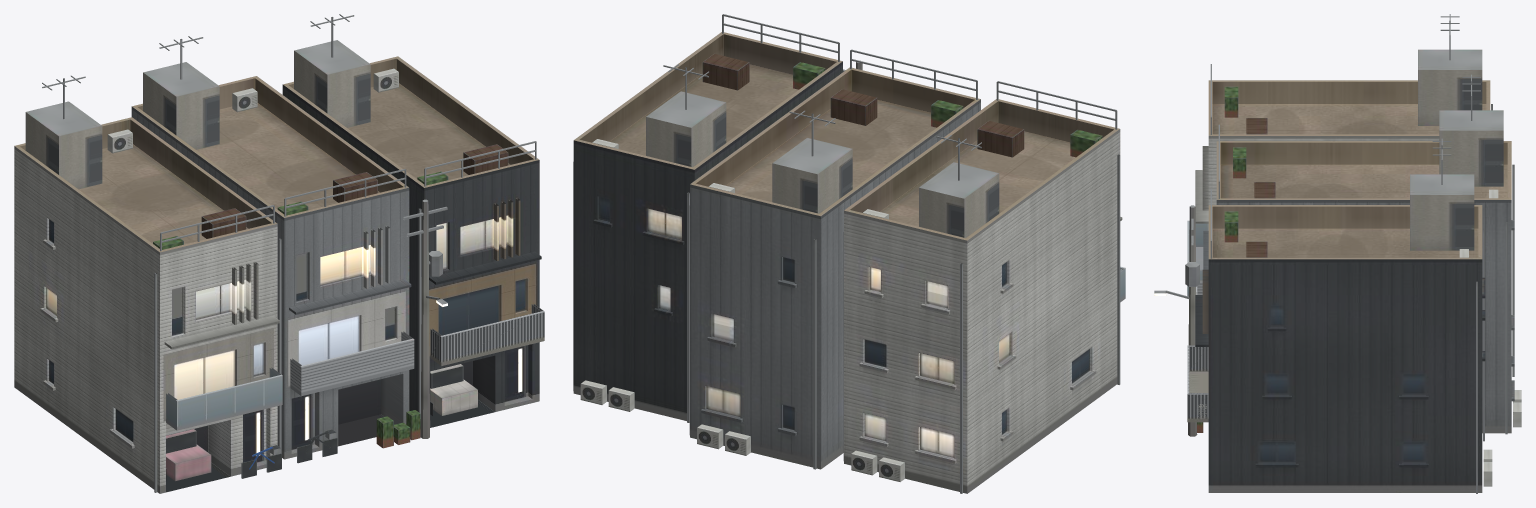
File: tokyo_house_c.glb
3 renders of one model, left to right at view 1: azimuth 30°, elevation 25°; view 2: azimuth 150°, elevation 25°; view 3: azimuth 270°, elevation 25°, orthographic. The views are drawn at different scales.
Visible parts, largest first — view 1: tokyo_house_c; view 2: tokyo_house_c; view 3: tokyo_house_c.
Boxes of the visible parts, left/top/right/bottom form: tokyo_house_c: left=14, top=14, right=544, bottom=493; tokyo_house_c: left=573, top=14, right=1125, bottom=493; tokyo_house_c: left=1154, top=14, right=1521, bottom=493.
Bounding box in the file's own units: 16.02 × 12.6 × 13.7.
1 material, 1 textured.
